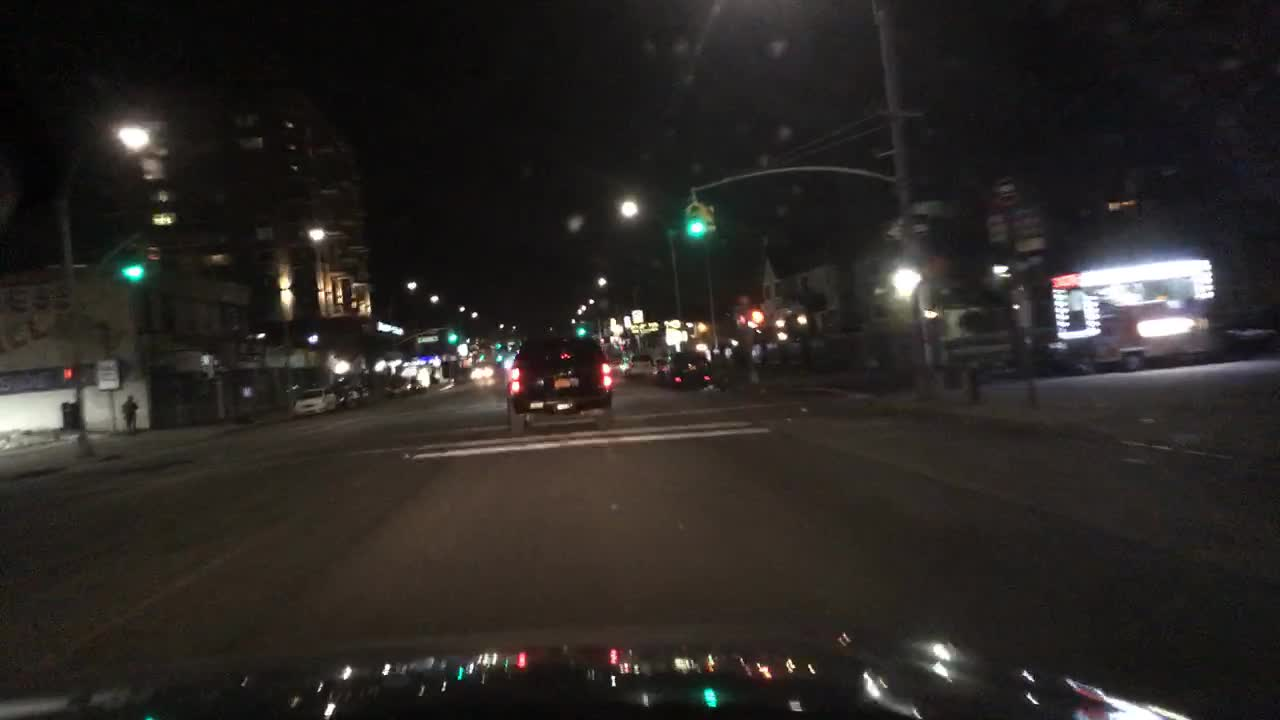car: (503, 331, 616, 425), (1085, 298, 1222, 368), (651, 349, 712, 389), (288, 386, 340, 418), (383, 365, 427, 395), (621, 354, 658, 376), (341, 382, 371, 404), (471, 359, 498, 383)
person: (120, 393, 139, 433)
traffic light: (121, 262, 146, 284), (686, 206, 702, 240), (703, 204, 714, 237), (62, 365, 77, 381)
traffic sign: (93, 359, 124, 392)
